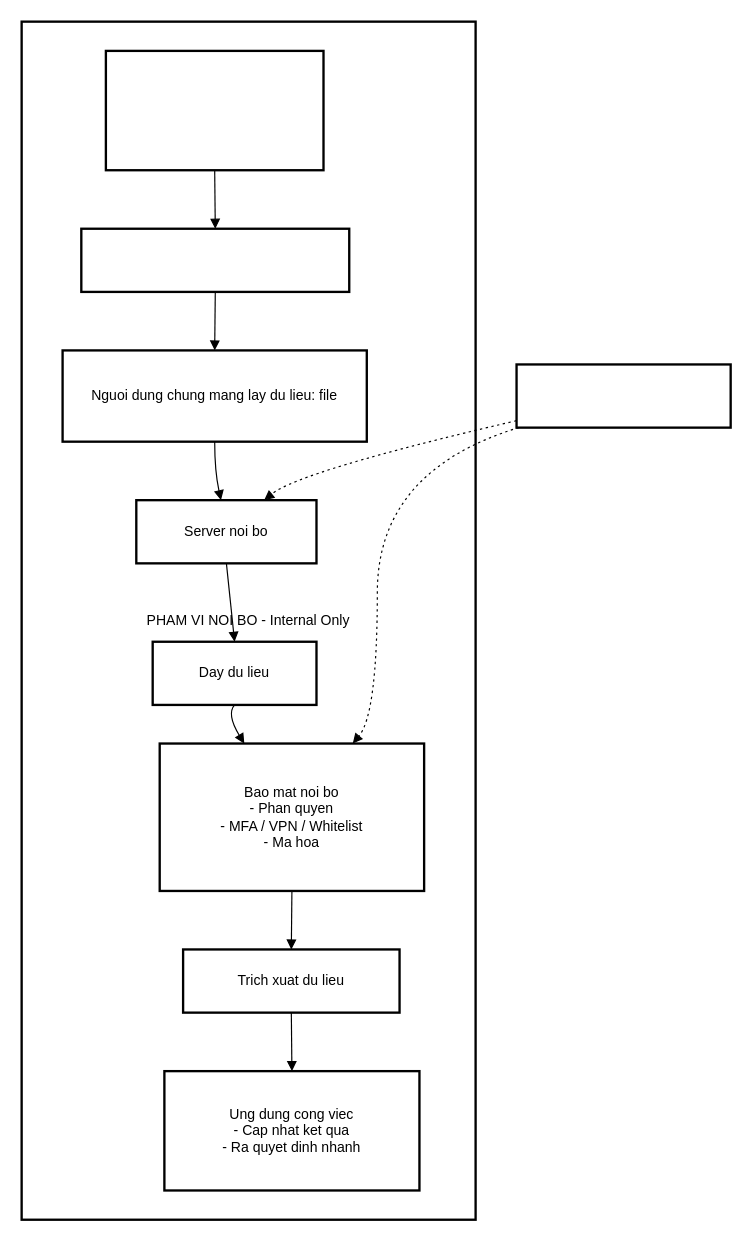
The diagram is 751 pixels wide and 1240 high, and some of its shapes have lost their labels. The shapes that lost their labels are listed below. From the top down, each one's centre as x and y in pixels, then its label:
At pixel 214 110: "Hoc modem - Thiet lap IP - Kiem tra ket noi".
At pixel 215 259: "Truyen du lieu qua WiFi".
At pixel 623 395: "External Internet".
